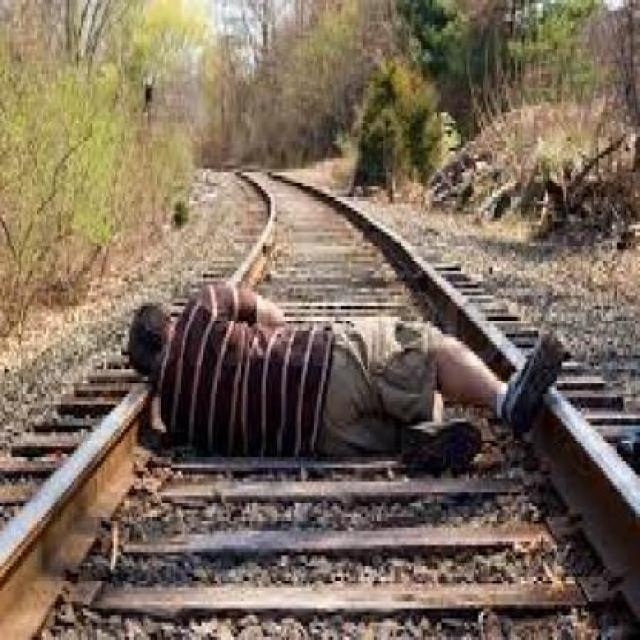danger: (123, 279, 558, 478)
rail: (2, 151, 636, 636)
